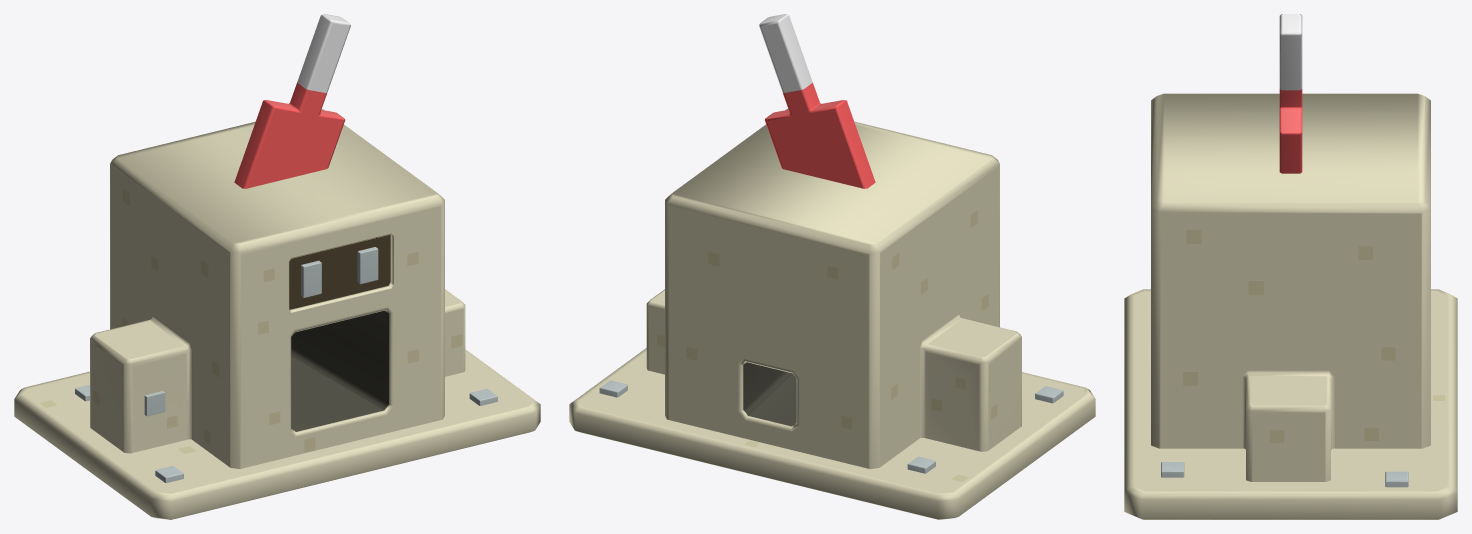
The picture shows the model from 3 angles, left to right: view 1: azimuth 30°, elevation 25°; view 2: azimuth 150°, elevation 25°; view 3: azimuth 270°, elevation 25°; orthographic projection. The views are drawn at different scales.
Parts seen in each view (by area): view 1: 0769_sandygast; view 2: 0769_sandygast; view 3: 0769_sandygast.
Part boxes in pixels (bbox=[...]): 0769_sandygast: bbox=[14, 14, 540, 519]; 0769_sandygast: bbox=[569, 14, 1095, 519]; 0769_sandygast: bbox=[1124, 14, 1457, 519].
Bounding box in the file's own units: 2.08 × 2.01 × 1.41.
1 material, 1 textured.
